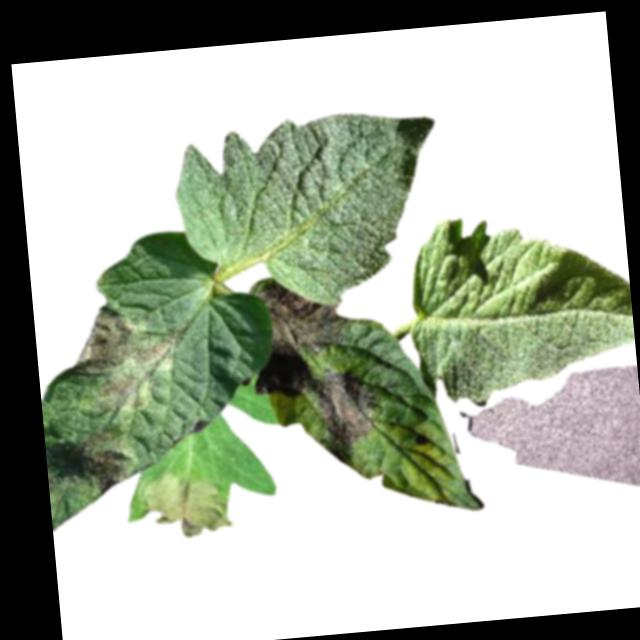Late_blight: (251, 346, 377, 452), (68, 300, 176, 375), (138, 466, 240, 543), (259, 276, 347, 355), (78, 426, 145, 497), (90, 369, 154, 416)
